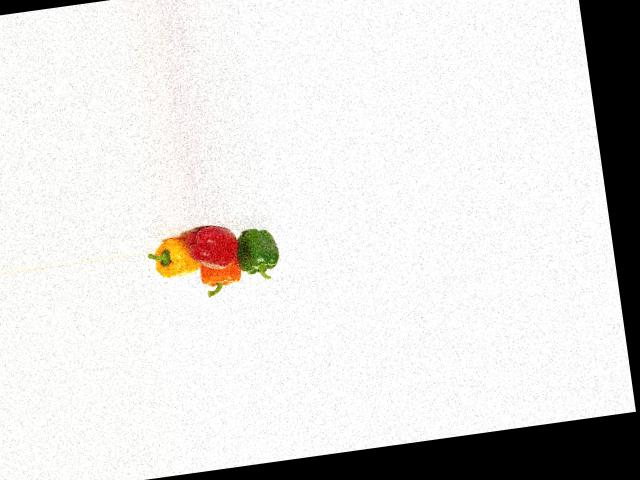bell_pepper: (230, 219, 282, 280)
